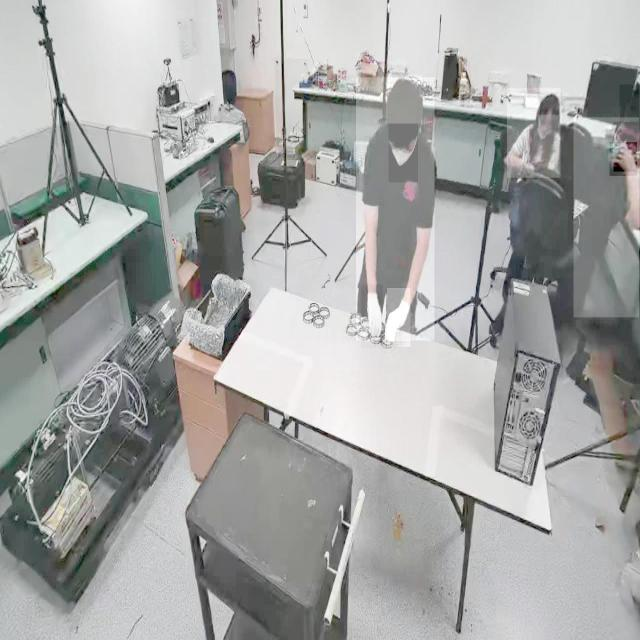face_mask: (388, 124, 418, 182), (614, 122, 640, 172)
hand_glove: (361, 284, 383, 350), (387, 288, 411, 348)
hand_noglove: (610, 142, 638, 177)
head_nohelmet: (386, 74, 423, 124), (620, 85, 640, 126), (537, 92, 563, 116)
person: (356, 78, 435, 342), (574, 118, 640, 318), (507, 88, 561, 179)
